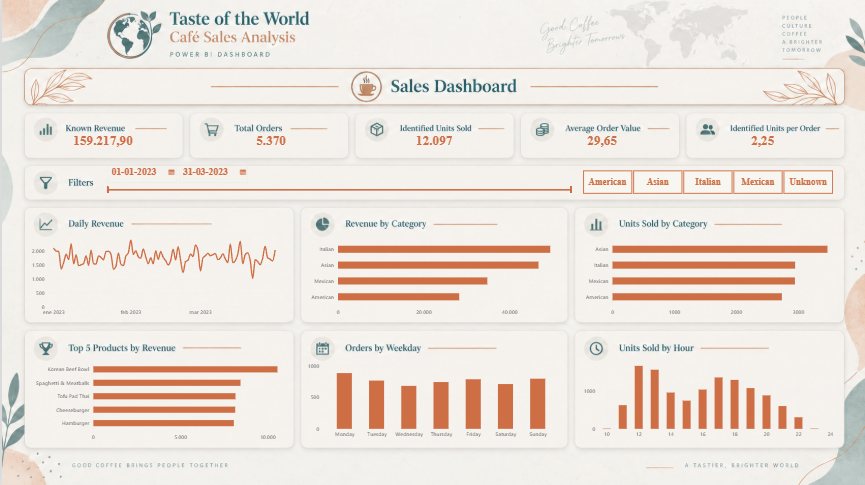

Layout of this report page (visuals, bound fields, positions):
{"tool":"powerbi","page":{"name":"Resumen Comercial","canvas":[1920,1080],"ordinal":0},"visuals":[{"type":"cardVisual","fields":{"Data":["restaurant_sales vw_powerbi_sales.Total pedidos"]},"box":[419.7,279,356.4,58.6],"z":0},{"type":"cardVisual","fields":{"Data":["restaurant_sales vw_powerbi_sales.Ingresos conocidos"]},"box":[51.6,279,349.3,58.6],"z":1000},{"type":"cardVisual","fields":{"Data":["restaurant_sales vw_powerbi_sales.Unidades identificadas"]},"box":[778.4,279,361.1,58.6],"z":2000},{"type":"cardVisual","fields":{"Data":["restaurant_sales vw_powerbi_sales.Ticket promedio conocido"]},"box":[1155.8,279,354,58.6],"z":3000},{"type":"cardVisual","fields":{"Data":["restaurant_sales vw_powerbi_sales.Unidades identificadas por pedido"]},"box":[1509.8,279,361.1,58.6],"z":4000},{"type":"slicer","fields":{"Values":["restaurant_sales vw_powerbi_sales.order_date"]},"box":[227.4,354,1048,96.1],"z":5000},{"type":"slicer","fields":{"Values":["restaurant_sales vw_powerbi_sales.category"]},"box":[1270.7,375.1,595.5,56.3],"z":6000},{"type":"lineChart","fields":{"Category":["restaurant_sales vw_powerbi_sales.order_date"],"Y":["restaurant_sales vw_powerbi_sales.Known Revenue"]},"box":[51.6,508.8,597.8,213.3],"z":7000},{"type":"clusteredBarChart","fields":{"Category":["restaurant_sales vw_powerbi_sales.category"],"Y":["restaurant_sales vw_powerbi_sales.Known Revenue"]},"box":[665.8,508.8,590.8,213.3],"z":7001},{"type":"clusteredBarChart","fields":{"Category":["restaurant_sales vw_powerbi_sales.category"],"Y":["restaurant_sales vw_powerbi_sales.Identified Units"]},"box":[1275.4,508.8,590.8,213.3],"z":7002},{"type":"barChart","fields":{"Category":["restaurant_sales vw_powerbi_sales.item_name"],"Y":["restaurant_sales vw_powerbi_sales.Known Revenue"]},"box":[51.6,780.7,597.8,220.4],"z":7003},{"type":"clusteredColumnChart","fields":{"Category":["restaurant_sales vw_powerbi_sales.order_day_name"],"Y":["restaurant_sales vw_powerbi_sales.Total Orders"]},"box":[663.5,790.1,590.8,204],"z":7005},{"type":"clusteredColumnChart","fields":{"Category":["restaurant_sales vw_powerbi_sales.order_hour"],"Y":["restaurant_sales vw_powerbi_sales.Identified Units"]},"box":[1275.4,790.1,595.5,204],"z":7006}]}

Visuals, with their boxes in screenshot pixels (x1, y1, x2, y2), scaled from the page's 1920x1080 canvas onto the 865x485 screenshot:
cardVisual - restaurant_sales vw_powerbi_sales.Total pedidos: [x1=189, y1=125, x2=350, y2=152]
cardVisual - restaurant_sales vw_powerbi_sales.Ingresos conocidos: [x1=23, y1=125, x2=181, y2=152]
cardVisual - restaurant_sales vw_powerbi_sales.Unidades identificadas: [x1=351, y1=125, x2=513, y2=152]
cardVisual - restaurant_sales vw_powerbi_sales.Ticket promedio conocido: [x1=521, y1=125, x2=680, y2=152]
cardVisual - restaurant_sales vw_powerbi_sales.Unidades identificadas por pedido: [x1=680, y1=125, x2=843, y2=152]
slicer - restaurant_sales vw_powerbi_sales.order_date: [x1=102, y1=159, x2=575, y2=202]
slicer - restaurant_sales vw_powerbi_sales.category: [x1=572, y1=168, x2=841, y2=194]
lineChart - restaurant_sales vw_powerbi_sales.order_date x restaurant_sales vw_powerbi_sales.Known Revenue: [x1=23, y1=228, x2=293, y2=324]
clusteredBarChart - restaurant_sales vw_powerbi_sales.category x restaurant_sales vw_powerbi_sales.Known Revenue: [x1=300, y1=228, x2=566, y2=324]
clusteredBarChart - restaurant_sales vw_powerbi_sales.category x restaurant_sales vw_powerbi_sales.Identified Units: [x1=575, y1=228, x2=841, y2=324]
barChart - restaurant_sales vw_powerbi_sales.item_name x restaurant_sales vw_powerbi_sales.Known Revenue: [x1=23, y1=351, x2=293, y2=450]
clusteredColumnChart - restaurant_sales vw_powerbi_sales.order_day_name x restaurant_sales vw_powerbi_sales.Total Orders: [x1=299, y1=355, x2=565, y2=446]
clusteredColumnChart - restaurant_sales vw_powerbi_sales.order_hour x restaurant_sales vw_powerbi_sales.Identified Units: [x1=575, y1=355, x2=843, y2=446]
